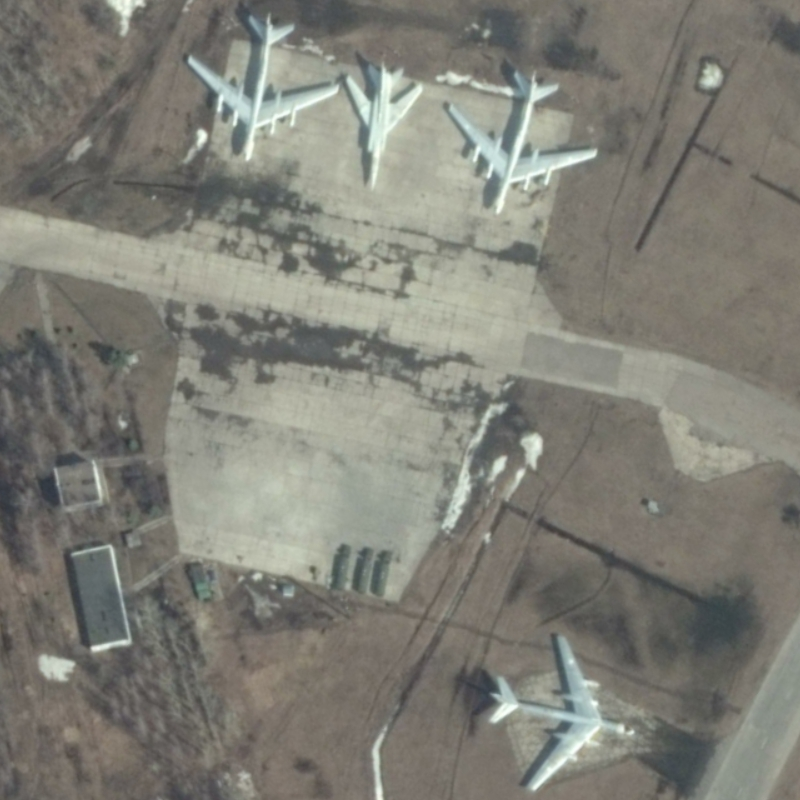A12: (342, 60, 425, 192)
A17: (184, 10, 343, 164), (486, 632, 637, 794), (445, 67, 601, 218)
